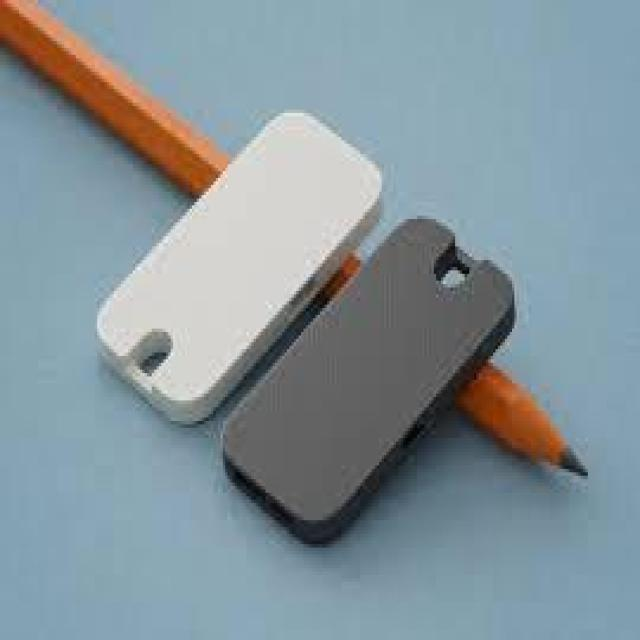Without deffect: (91, 99, 533, 549)
